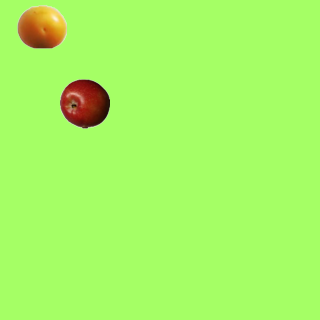Apple Braeburn: (59, 78, 109, 128)
Cherry Wax Yellow: (16, 1, 66, 51)
